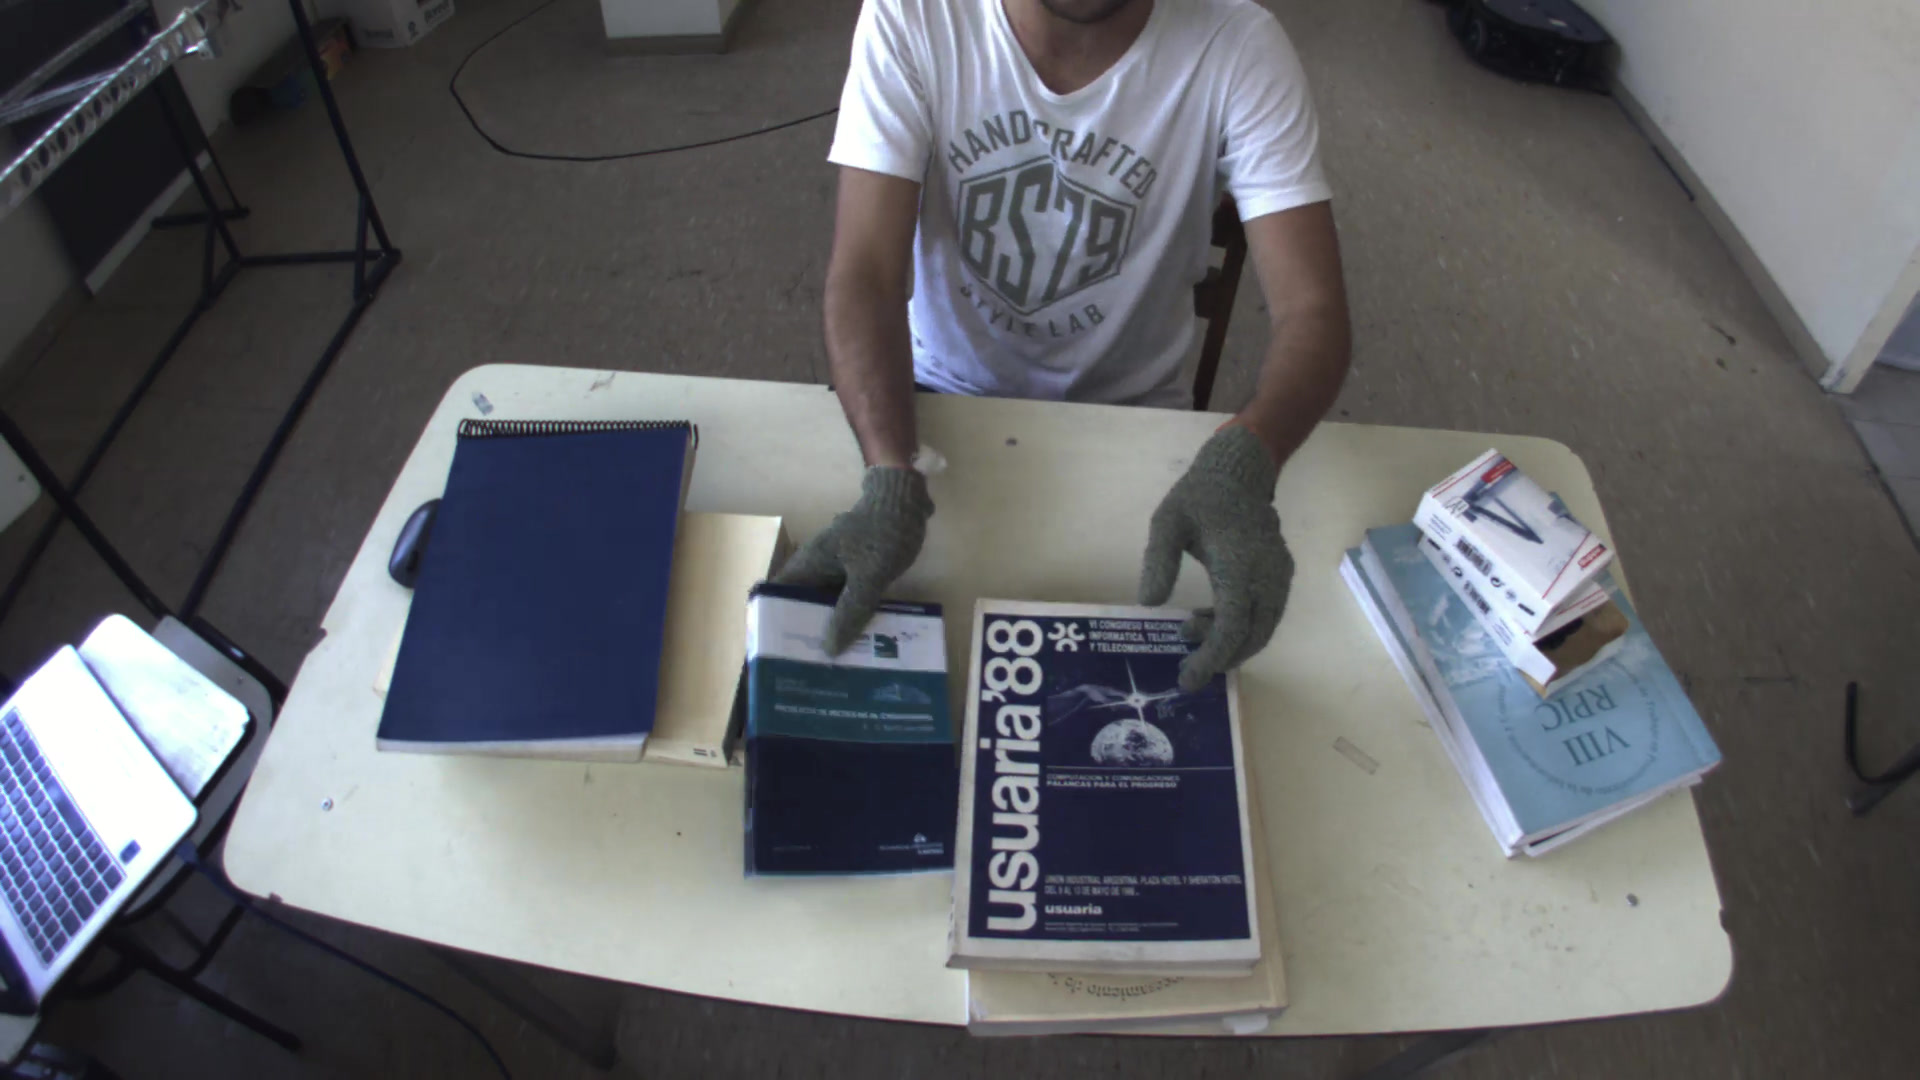hand: (1131, 413, 1309, 704), (796, 448, 945, 662)
